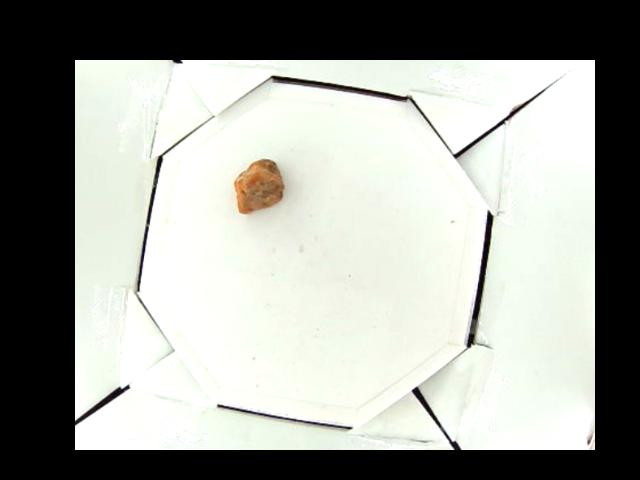Brisk: (234, 155, 284, 216)
